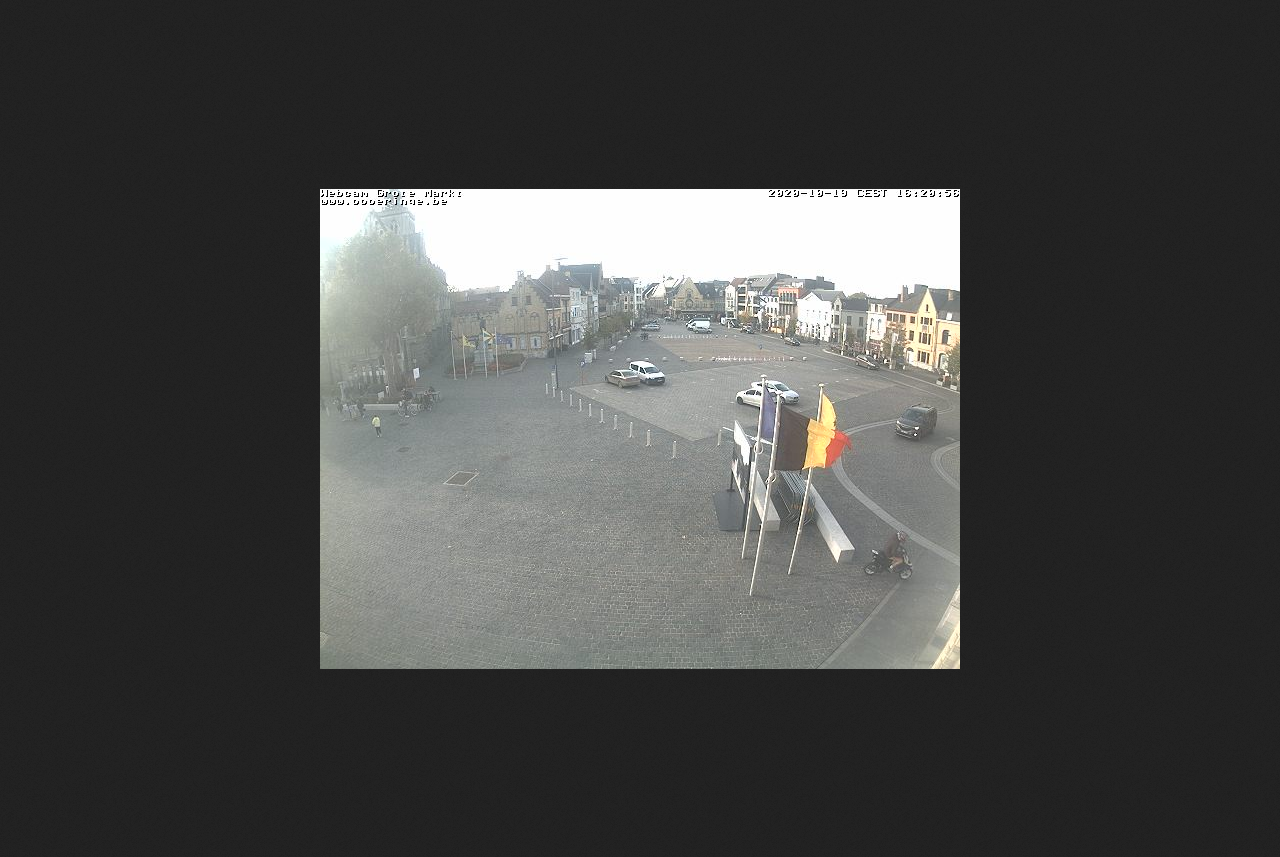yes: (771, 406, 857, 472)
